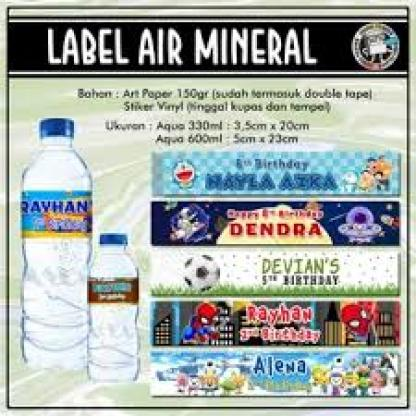Glass Bottle: (17, 113, 97, 374), (81, 225, 142, 391)
